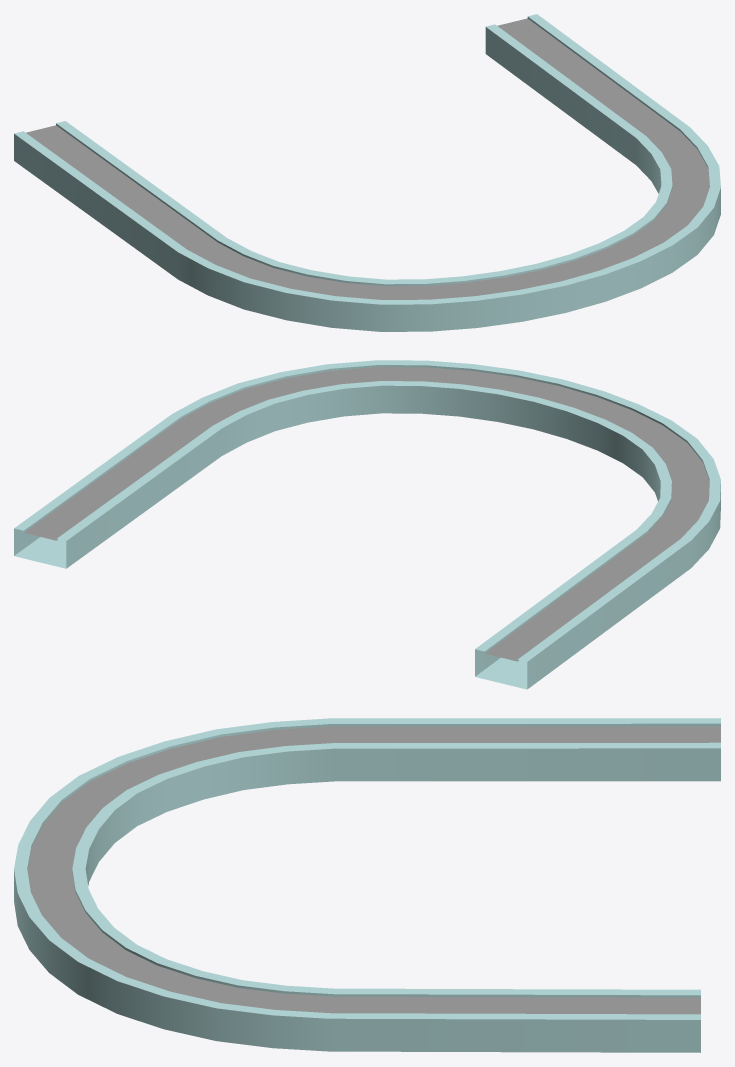
Rendered from U-turn.fbx.
3 views of the same model, one above another, from view 1: azimuth 30°, elevation 25°; view 2: azimuth 150°, elevation 25°; view 3: azimuth 270°, elevation 25° (orthographic). The views are drawn at different scales.
Parts seen in each view (by area): view 1: U-turn; view 2: U-turn; view 3: U-turn.
Boxes of the visible parts, x1,y1,x2,y2 form: U-turn: (14,14,720,331); U-turn: (14,360,720,689); U-turn: (14,718,720,1052).
Bounding box in the file's own units: 2027 × 104 × 2006.
